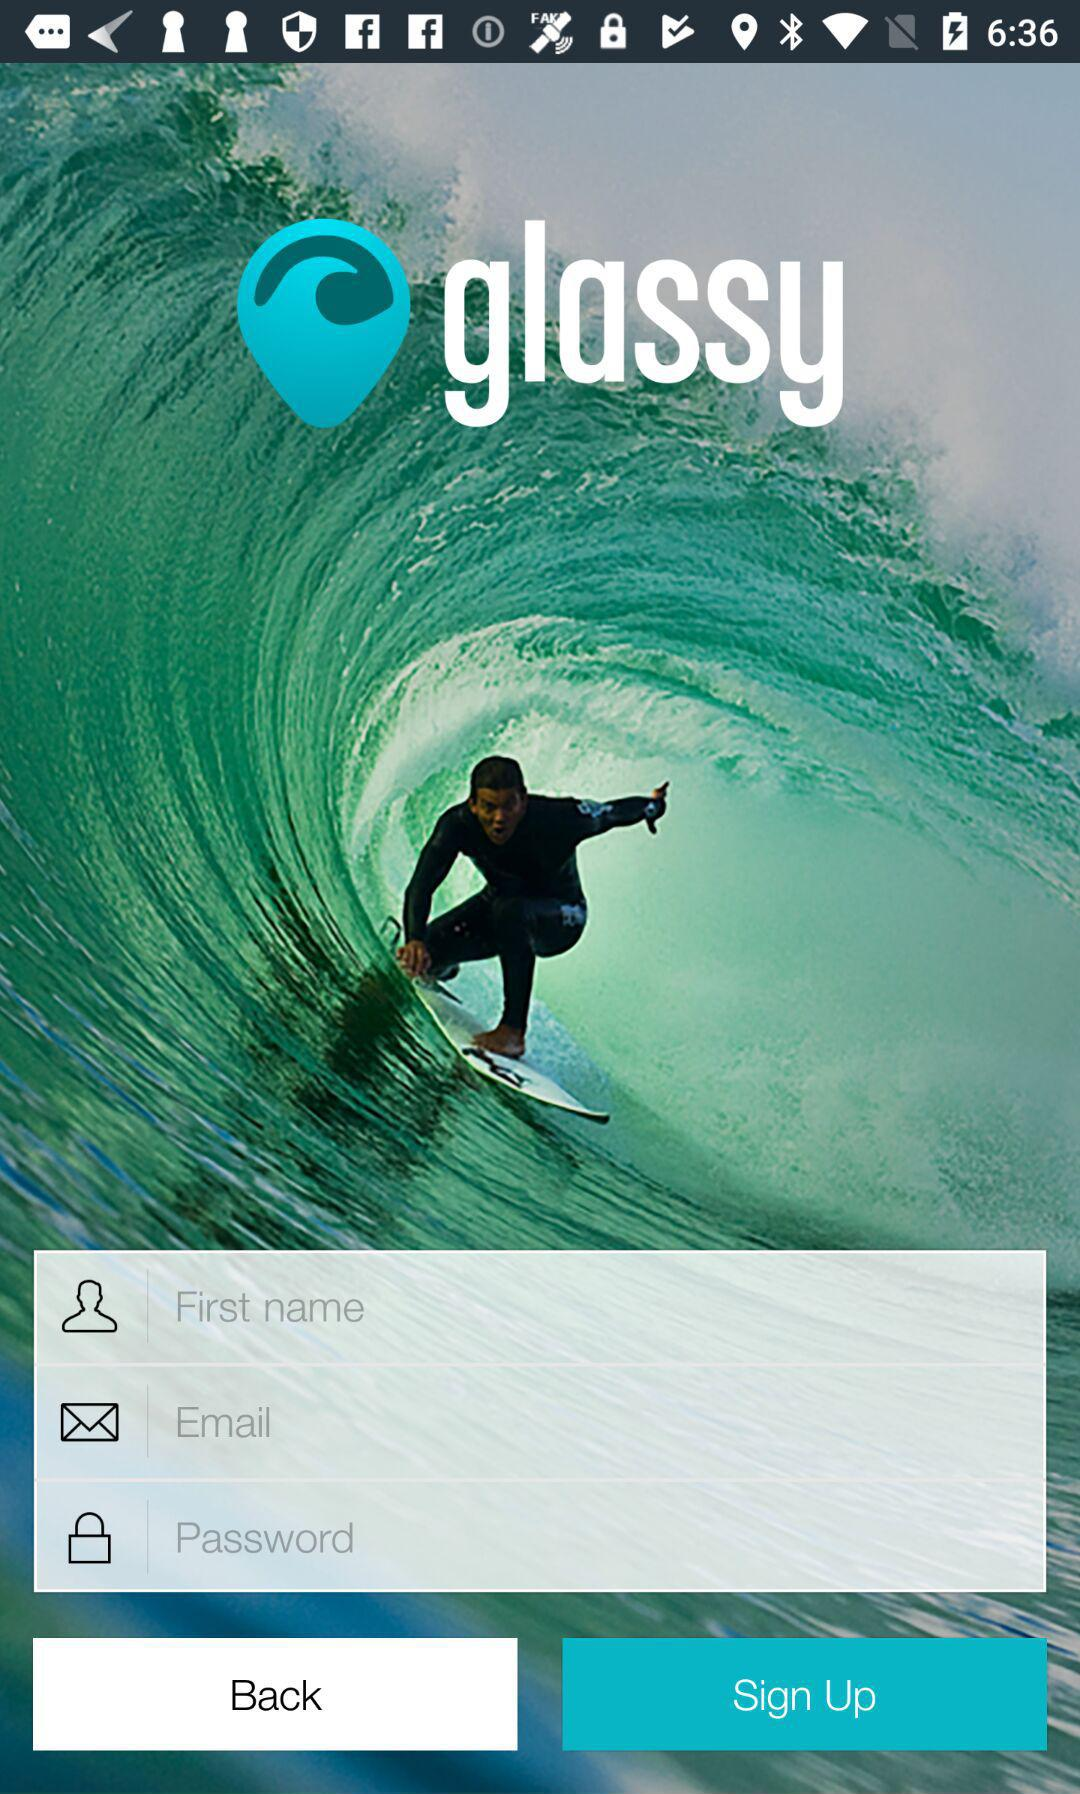BackgroundImage: (1, 64, 1080, 1794)
EditText: (35, 1363, 1047, 1483), (35, 1249, 1047, 1367), (35, 1477, 1047, 1592)
Icon: (61, 1279, 118, 1334), (61, 1402, 120, 1442), (68, 1512, 111, 1565)
Image: (237, 215, 849, 433)
Text: (177, 1290, 366, 1325), (178, 1522, 354, 1554), (176, 1406, 272, 1440)
TextButton: (33, 1636, 519, 1750), (562, 1638, 1047, 1750)
UpperTaskBar: (1, 1, 1080, 64)
